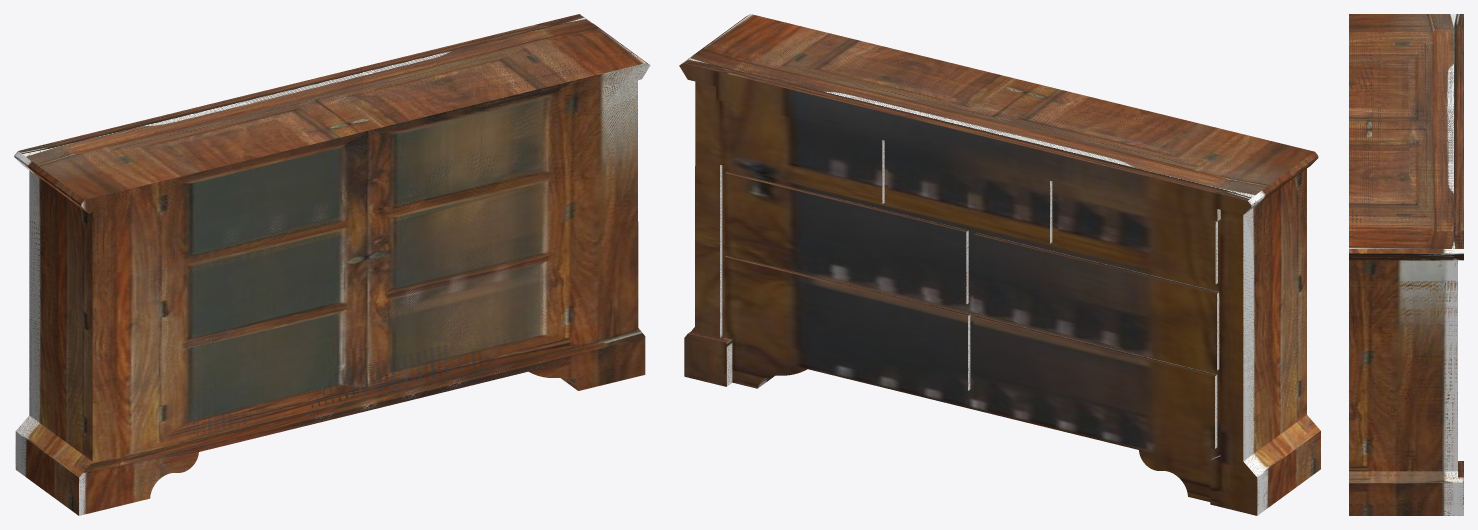
3 views of the same model, side by side, from view 1: azimuth 30°, elevation 25°; view 2: azimuth 150°, elevation 25°; view 3: azimuth 270°, elevation 25° (orthographic). The views are drawn at different scales.
Visible parts, largest first — view 1: mesh1_mesh1-geometry; view 2: mesh1_mesh1-geometry; view 3: mesh1_mesh1-geometry.
Part boxes in pixels (x1=…): mesh1_mesh1-geometry: x1=14, y1=14, x2=650, y2=515; mesh1_mesh1-geometry: x1=679, y1=14, x2=1320, y2=515; mesh1_mesh1-geometry: x1=1349, y1=14, x2=1463, y2=515.
Size of the model in its own units: 0.8712 by 0.4581 by 0.1767.
